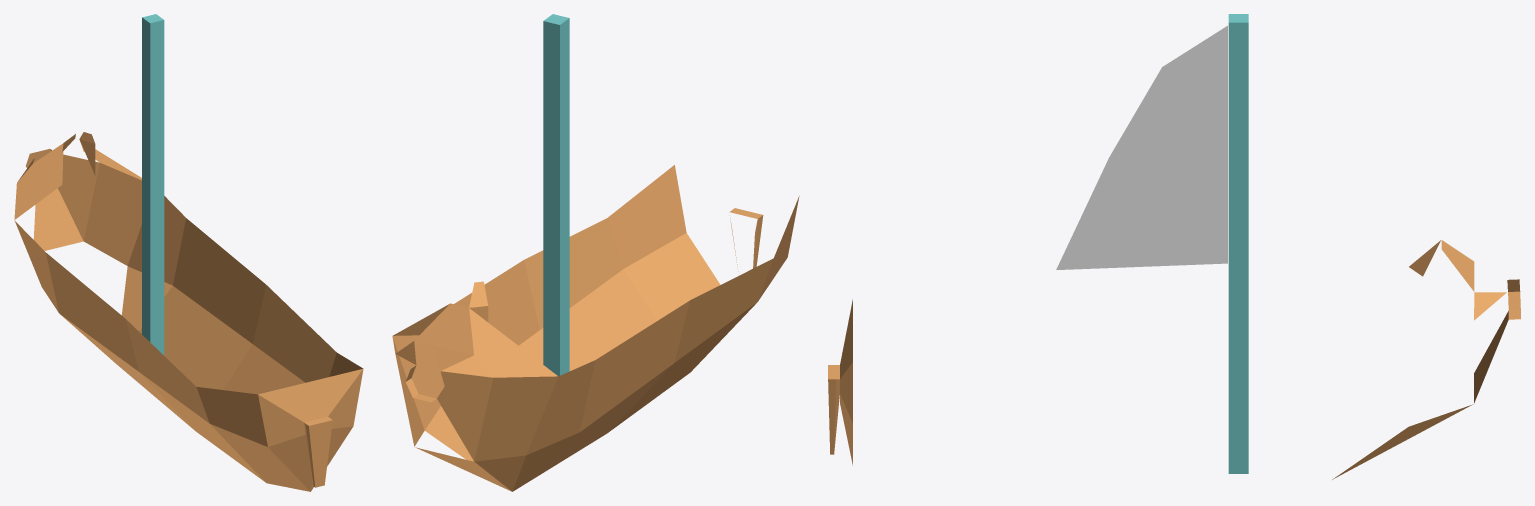
The model's file is pigboat.glb.
3 views of the same model, side by side, from view 1: azimuth 30°, elevation 25°; view 2: azimuth 150°, elevation 25°; view 3: azimuth 270°, elevation 25° (orthographic). The views are drawn at different scales.
Parts seen in each view (by area): view 1: Plane, Cube; view 2: Plane, Cube; view 3: Plane.001, Cube, Plane.
Part boxes in pixels (box(x1,y1,x2,y2)): Plane: box(14, 132, 363, 491); Cube: box(142, 14, 164, 355); Plane: box(392, 165, 799, 491); Cube: box(543, 14, 569, 376); Plane.001: box(1056, 25, 1227, 269); Cube: box(1228, 14, 1248, 473); Plane: box(828, 240, 1520, 479).
Size of the model in its own units: 2 by 5.19 by 6.88.
